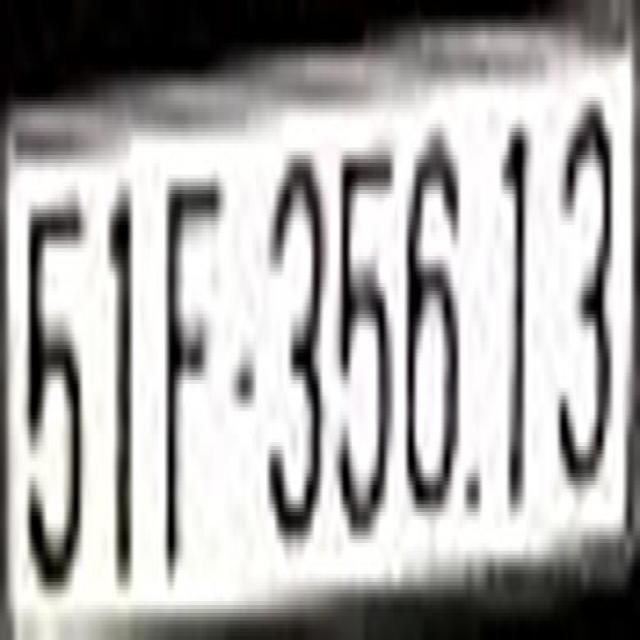1: (497, 89, 533, 520), (104, 175, 140, 590)
3: (263, 116, 326, 558), (557, 89, 616, 497)
5: (18, 190, 82, 586), (335, 132, 394, 543)
6: (400, 128, 460, 531)
F: (162, 143, 223, 582)
